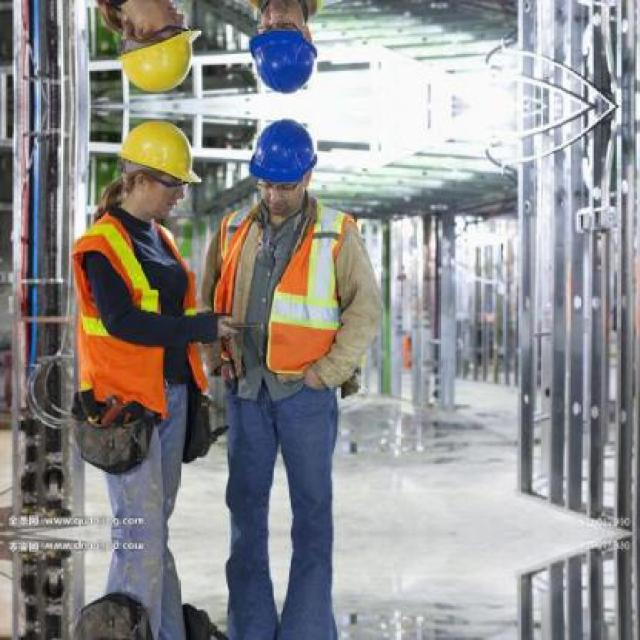helmet: (108, 110, 203, 224), (107, 0, 204, 103), (242, 108, 327, 220), (242, 0, 328, 105)
